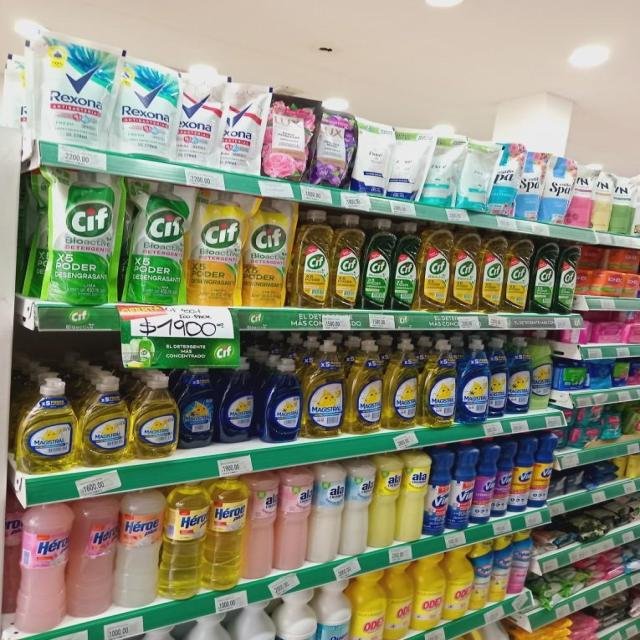ala_crem_amarillo: (372, 452, 399, 548), (399, 449, 426, 543)
cif_conc_bot_amarilla: (295, 209, 331, 309), (332, 213, 362, 310), (420, 223, 450, 312), (452, 228, 478, 312), (479, 232, 504, 314), (505, 236, 530, 314)
cif_conc_botella_verde: (363, 218, 391, 310), (392, 220, 419, 311), (531, 241, 555, 314), (556, 243, 575, 314)
cif_conc_sachet_amarillo: (189, 189, 242, 307), (244, 196, 291, 308)
cif_conc_sachet_verde: (44, 168, 120, 306), (126, 180, 186, 305)
heroe: (15, 500, 68, 633), (116, 488, 160, 608), (162, 480, 205, 599), (206, 474, 246, 590)
magistral_con_amarillo: (18, 375, 77, 473), (79, 373, 129, 467), (132, 370, 178, 459), (304, 339, 344, 438), (346, 338, 382, 435), (384, 337, 419, 430), (422, 338, 456, 427)
magistral_con_azul: (260, 356, 301, 442), (217, 357, 256, 444), (179, 366, 215, 448), (458, 336, 487, 424), (488, 336, 507, 419)
